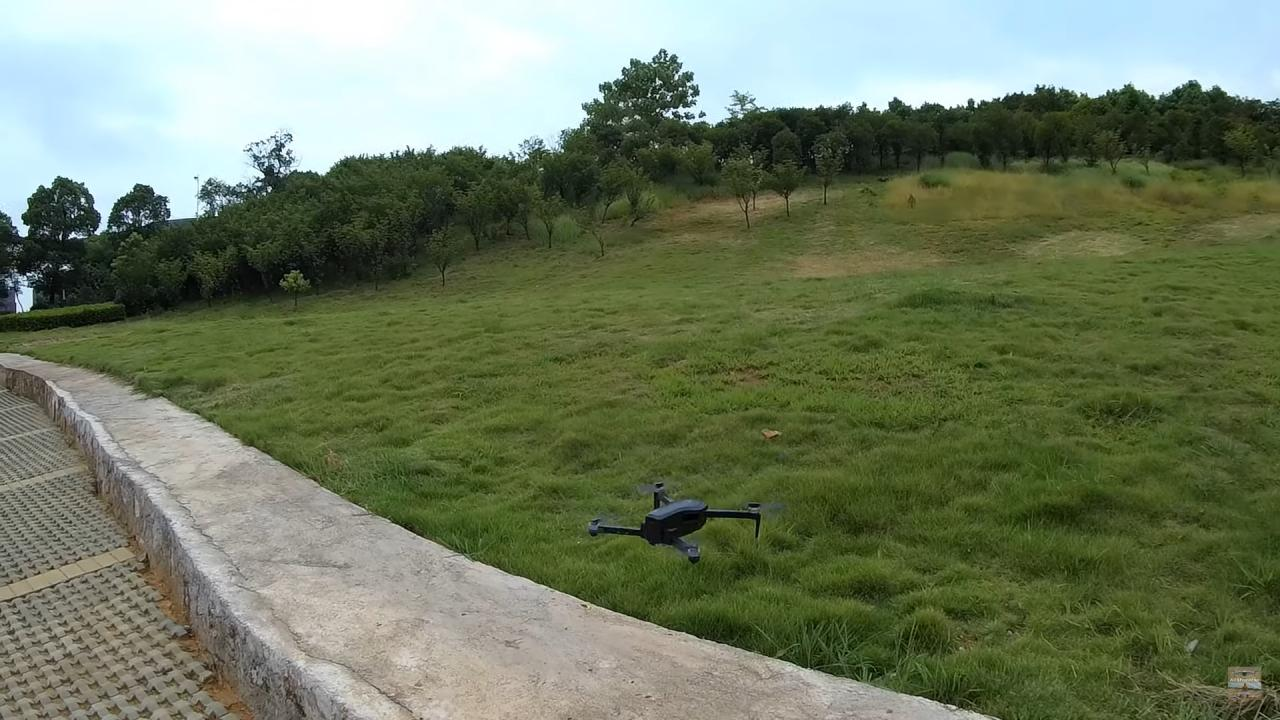Drone: (574, 470, 777, 580)
